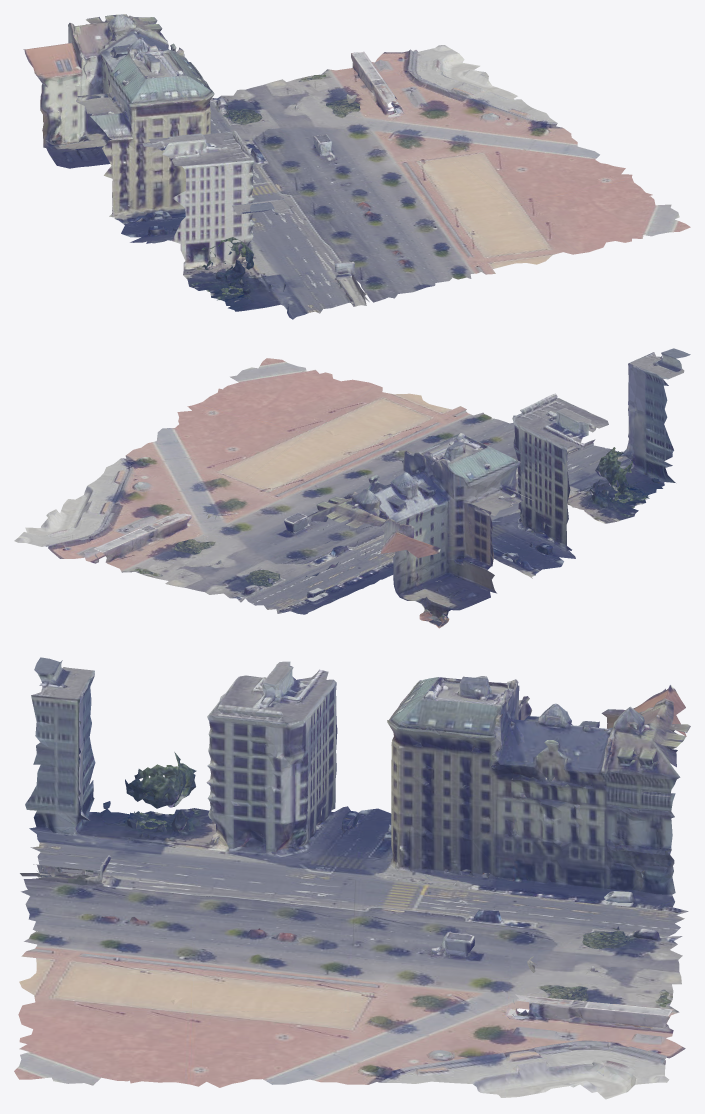
3 renders of one model, top to bottom at view 1: azimuth 30°, elevation 25°; view 2: azimuth 150°, elevation 25°; view 3: azimuth 270°, elevation 25°, orthographic. The views are drawn at different scales.
Bounding box in the file's own units: 108 × 31.56 × 107.
Materials: 1 (1 with a texture image).
